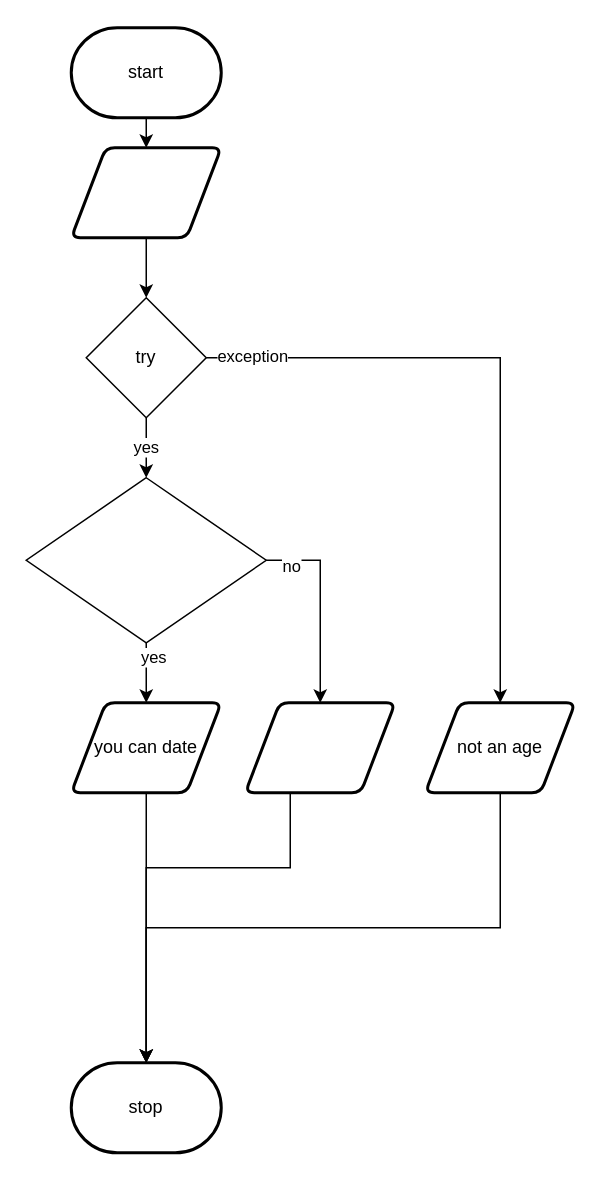
Image size: 603x1179. Some labels were removed from this diagram. Here are the shapes that lost their labels. From the top down, the centre of each, then its label:
At [145,192]: "get age".
At [145,559]: "is age between 25 and 40".
At [319,747]: "you cant date".
